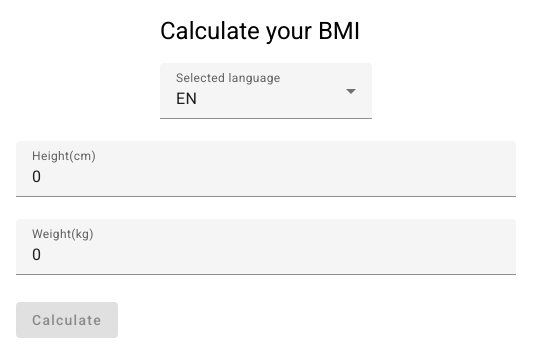
Test case: My First Test › should change the language to Romanian
Step 1. Click the dropdown labelled "EN" → click(187, 98), box [176,87,356,111]
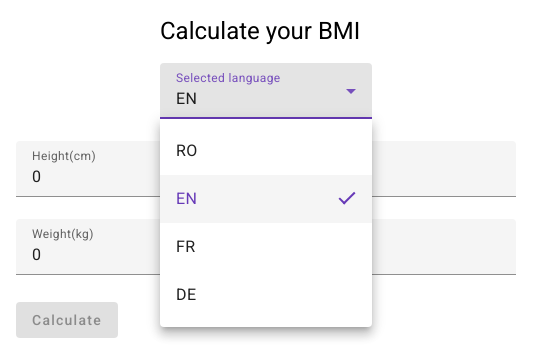
Step 2. Click the option "RO" → click(187, 151), box [176,141,198,160]
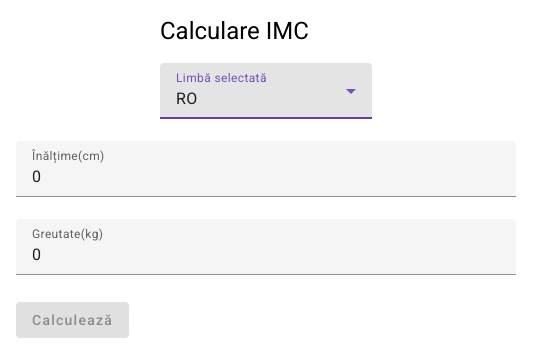
Result: the heading "Calculare IMC" is shown at [160,16,309,44]
